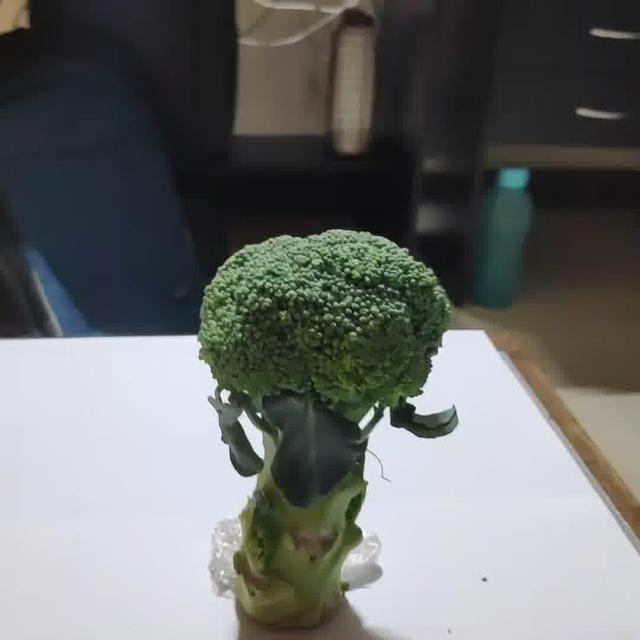Broccoli: (199, 230, 457, 628)
